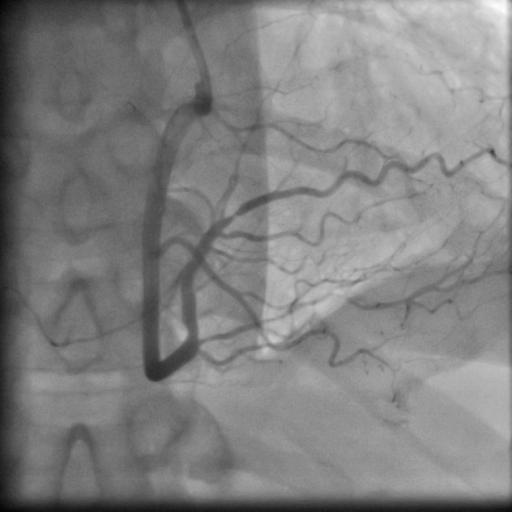Stenosis: (221, 206, 244, 222)
